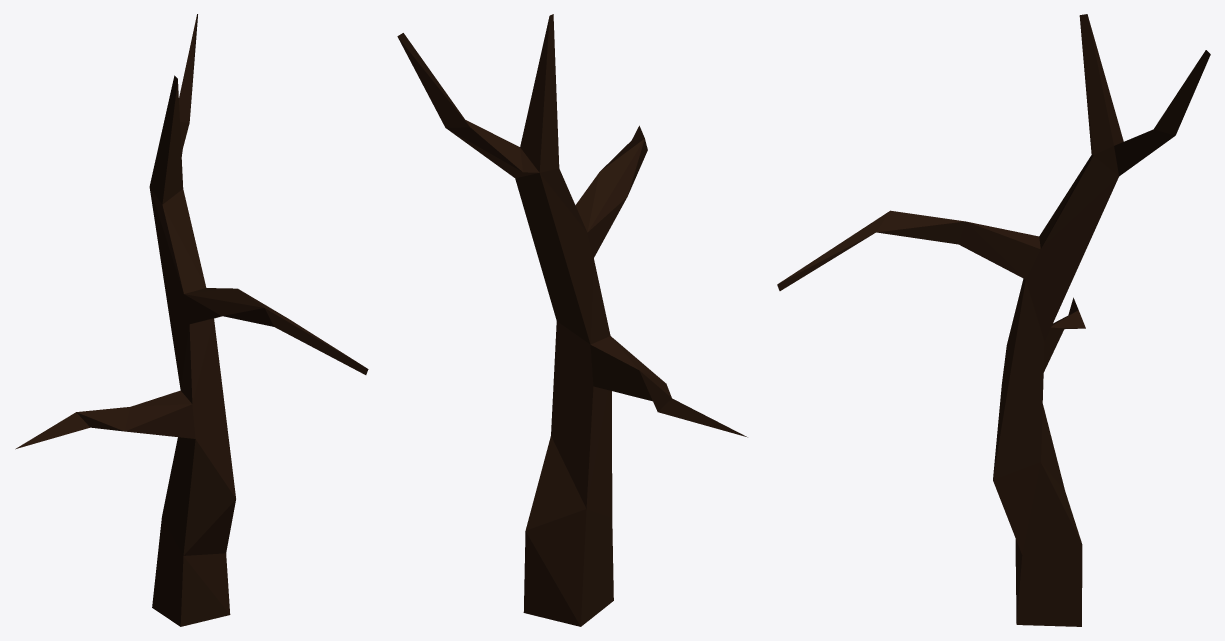
Rendered from tronc.fbx.
3 views of the same model, side by side, from view 1: azimuth 30°, elevation 25°; view 2: azimuth 150°, elevation 25°; view 3: azimuth 270°, elevation 25° (orthographic). The views are drawn at different scales.
Parts seen in each view (by area): view 1: Trunk; view 2: Trunk; view 3: Trunk.
Boxes of the visible parts, x1,y1,x2,y2 form: Trunk: (15,14,368,626); Trunk: (397,14,747,626); Trunk: (777,14,1210,626).
Size of the model in its own units: 315 by 654 by 425.
